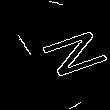N_SW: (13, 26, 97, 84)
